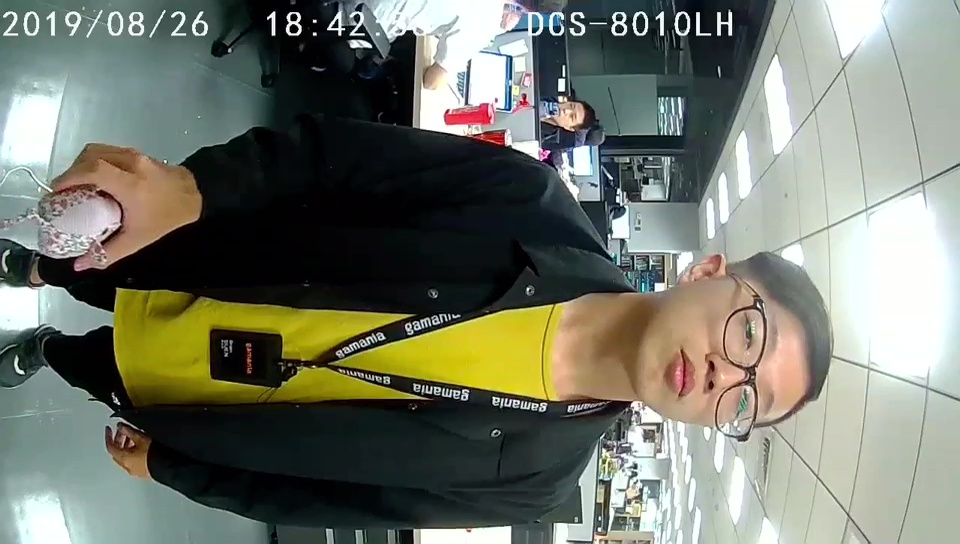pig: (36, 185, 123, 265)
